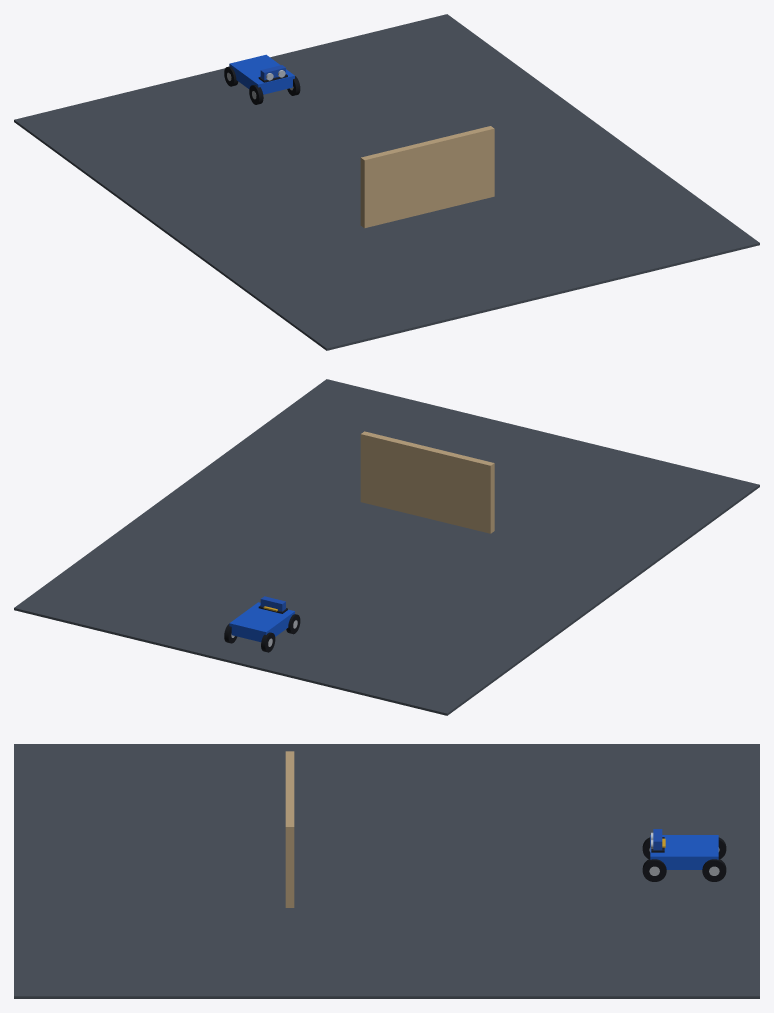
Rendered from virtual.glb.
3 renders of one model, top to bottom at view 1: azimuth 30°, elevation 25°; view 2: azimuth 150°, elevation 25°; view 3: azimuth 270°, elevation 25°, orthographic. The views are drawn at different scales.
Parts seen in each view (by area): view 1: Floor, Wall, Body; view 2: Floor, Wall, Body; view 3: Floor, Body, Wall.
Part boxes in pixels (left/top/right/bottom): Floor: left=14, top=14, right=759, bottom=350; Wall: left=360, top=126, right=494, bottom=228; Body: left=229, top=54, right=294, bottom=94; Floor: left=14, top=379, right=759, bottom=715; Wall: left=360, top=431, right=494, bottom=533; Body: left=229, top=602, right=294, bottom=642; Floor: left=14, top=744, right=759, bottom=998; Body: left=650, top=835, right=718, bottom=869; Wall: left=285, top=751, right=294, bottom=907.
Bounding box in the file's own units: 4 × 0.62 × 5.
